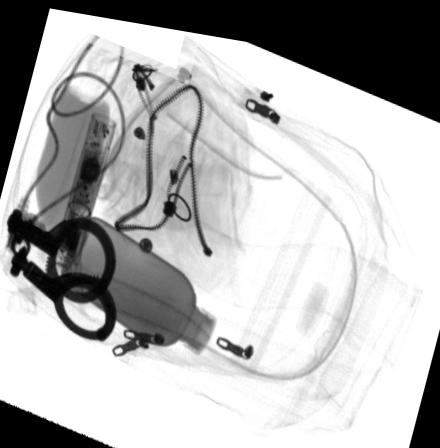Baton: (51, 107, 117, 273)
HandCuffs: (4, 206, 117, 340)
